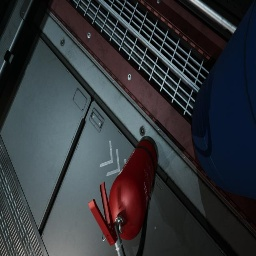FireExtinguisher ]: (88, 136, 158, 256)
